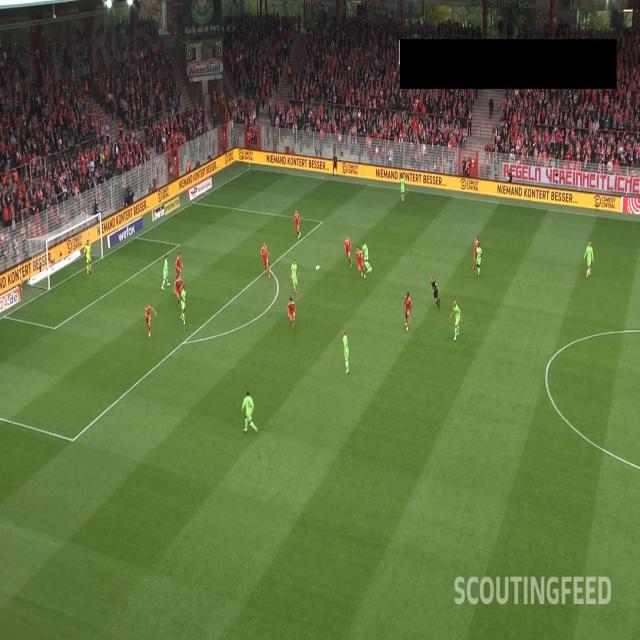ball: (315, 264, 320, 271)
